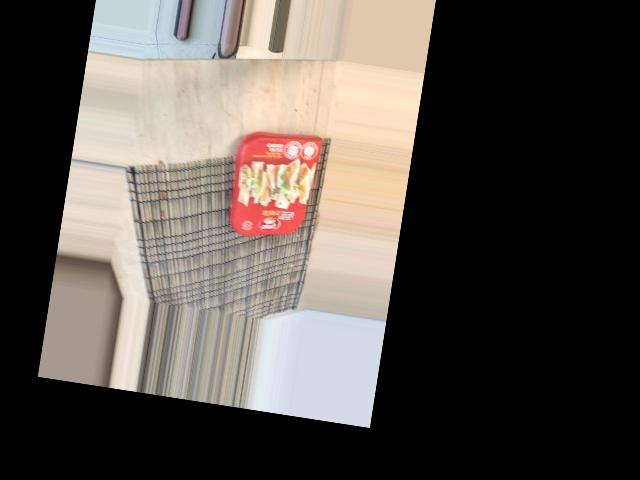cheese: (111, 100, 251, 209)
